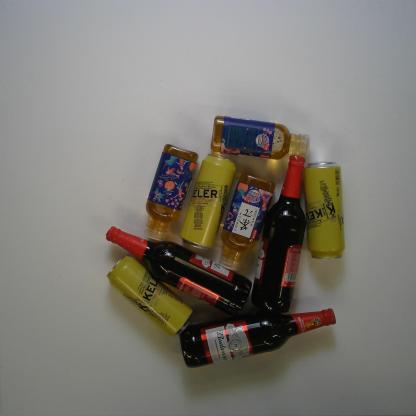Alcohol: (104, 224, 253, 318), (178, 304, 338, 371), (248, 150, 309, 316), (105, 252, 195, 339), (178, 149, 240, 253), (300, 158, 348, 264)
Drink: (142, 144, 203, 244), (220, 171, 276, 273), (209, 113, 312, 162)
